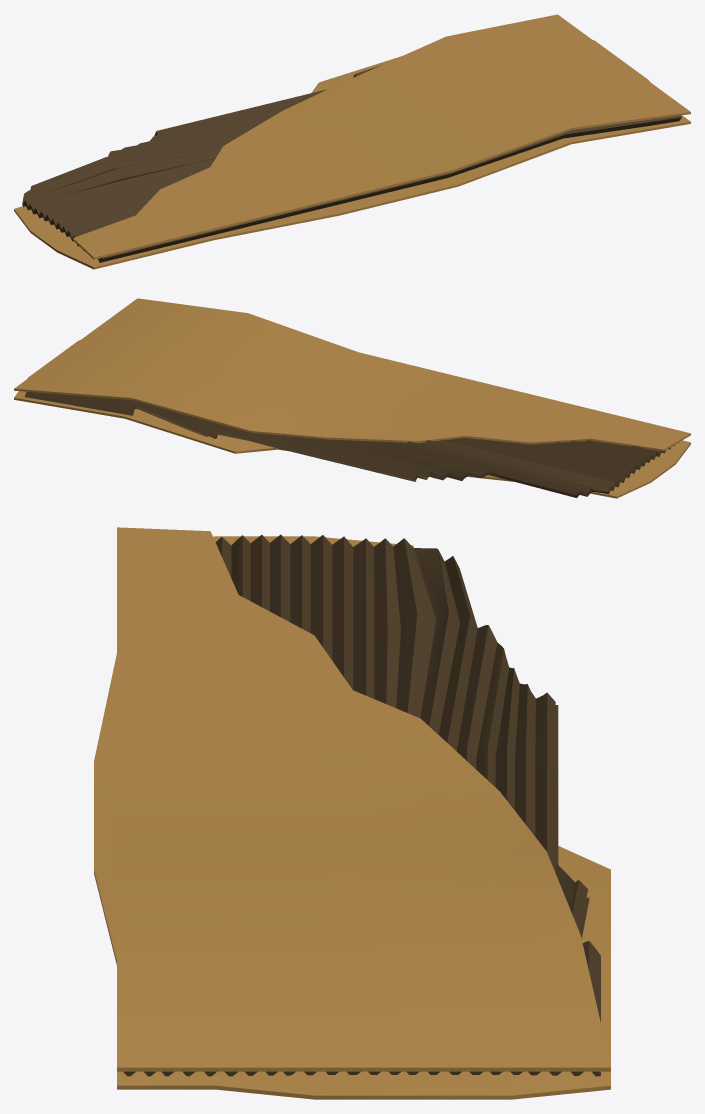
The model's file is CardboardBig.fbx.
The picture shows the model from 3 angles, top to bottom: view 1: azimuth 30°, elevation 25°; view 2: azimuth 150°, elevation 25°; view 3: azimuth 270°, elevation 25°; orthographic projection. The views are drawn at different scales.
Visible parts, largest first — view 1: Top1, Middle1, Bottom1; view 2: Top1, Middle1, Bottom1; view 3: Top1, Middle1, Bottom1.
Part boxes in pixels (left/top/right/bottom): Top1: left=73, top=14, right=690, bottom=259; Middle1: left=22, top=64, right=681, bottom=262; Bottom1: left=14, top=40, right=690, bottom=269; Top1: left=14, top=298, right=690, bottom=451; Middle1: left=25, top=391, right=679, bottom=497; Bottom1: left=14, top=340, right=690, bottom=498; Top1: left=117, top=527, right=610, bottom=1071; Middle1: left=123, top=534, right=600, bottom=1076; Bottom1: left=94, top=536, right=610, bottom=1099.
Bounding box in the file's own units: 40.63 × 1.57 × 15.88.
